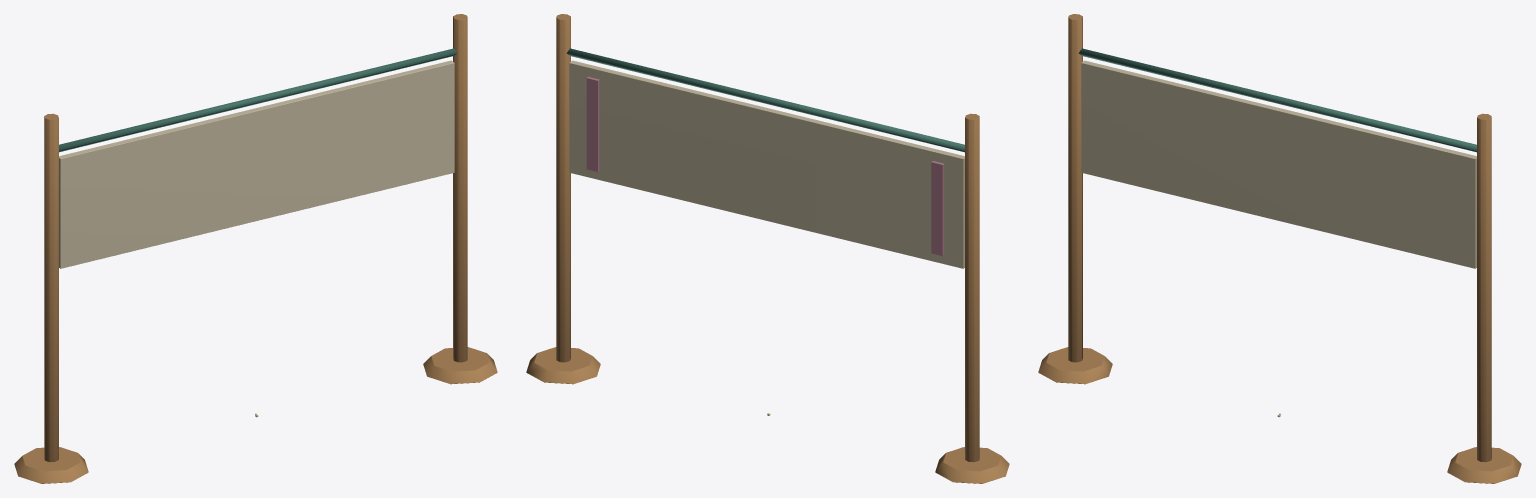
File: birthday_banner_low.glb
The picture shows the model from 3 angles, left to right: view 1: azimuth 30°, elevation 25°; view 2: azimuth 150°, elevation 25°; view 3: azimuth 330°, elevation 25°; orthographic projection.
Bounding box in the file's own units: 3.26 × 2.3 × 0.458.
